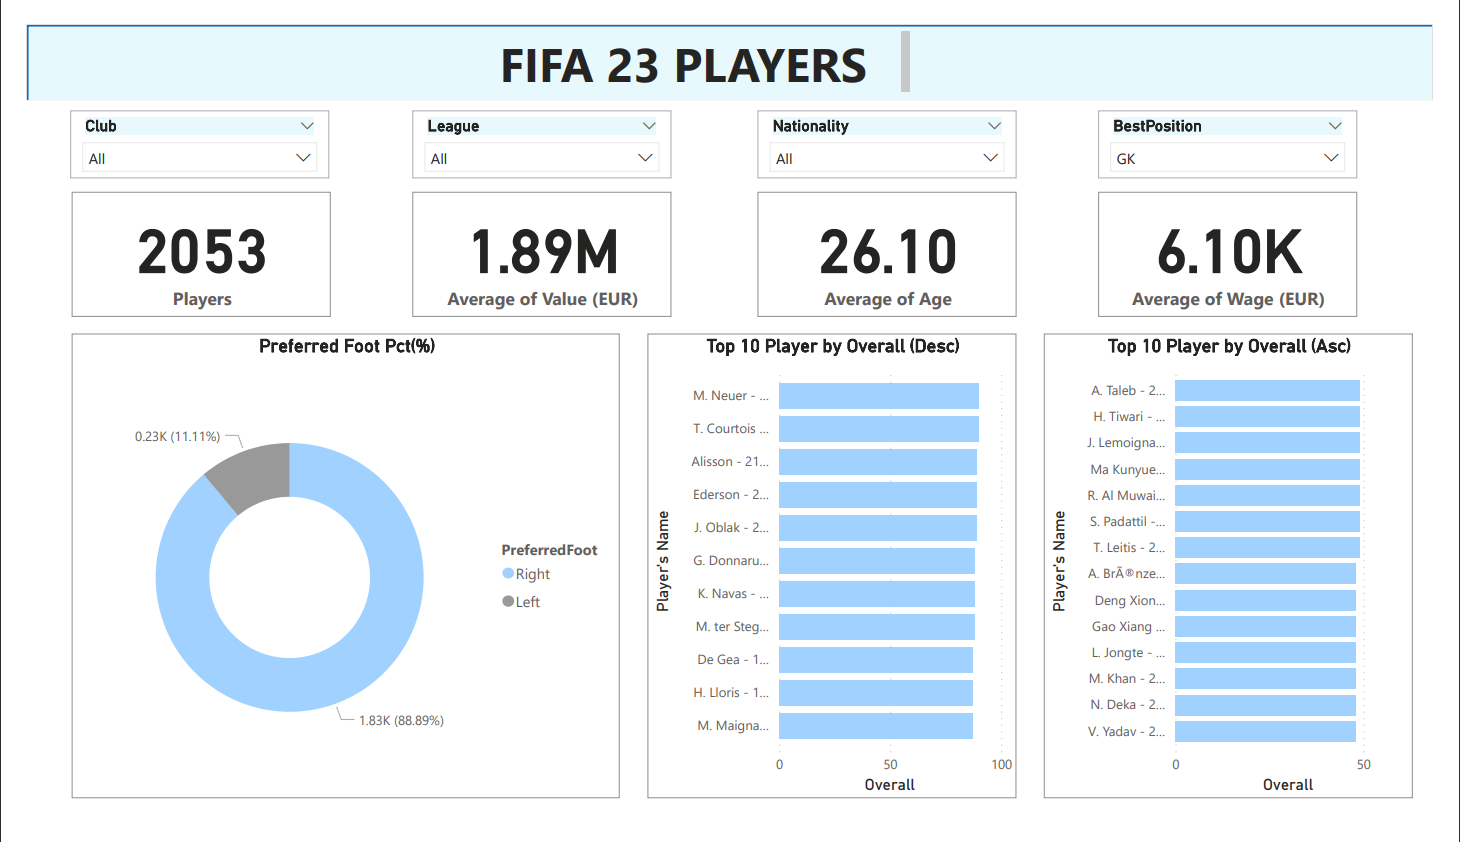

This screenshot's page, from the dashboard's own definition file:
{"tool":"powerbi","page":{"name":"FIFA 23 PLAYERS","canvas":[1280,720],"ordinal":0},"visuals":[{"type":"shape","box":[0,0,1279.9,68.8],"z":0},{"type":"textbox","box":[395,1.2,414,66.4],"z":1000},{"type":"slicer","fields":{"Values":["players_fifa23.Club"]},"box":[40.3,78.3,236,61.7],"z":2000},{"type":"slicer","fields":{"Values":["players_fifa23.League#"]},"box":[351.1,78.3,236,61.7],"z":3000},{"type":"slicer","fields":{"Values":["players_fifa23.Nationality"]},"box":[665.4,78.3,236,61.7],"z":4000},{"type":"slicer","fields":{"Values":["players_fifa23.BestPosition"]},"box":[975,78.3,236,61.7],"z":5000},{"type":"card","fields":{"Values":["players_fifa23.ID"]},"box":[41.4,152.9,235.7,114.3],"z":6000},{"type":"card","fields":{"Values":["players_fifa23.ValueEUR"]},"box":[351.4,152.9,235.7,114.3],"z":7000},{"type":"card","fields":{"Values":["players_fifa23.Age"]},"box":[665.7,152.9,235.7,114.3],"z":8000},{"type":"card","fields":{"Values":["players_fifa23.WageEUR"]},"box":[975.7,152.9,235.7,114.3],"z":9000},{"type":"donutChart","title":"Preferred Foot Pct(%)","fields":{"Category":["players_fifa23.PreferredFoot"],"Y":["players_fifa23.PreferredFoot"]},"box":[41.2,281.2,499.4,422.6],"z":10000},{"type":"barChart","title":"Top 10 Player by Overall (Desc)","fields":{"Category":["players_fifa23.Name with ID"],"Y":["players_fifa23.Overall"]},"box":[565.7,281.4,335.7,422.9],"z":11000},{"type":"barChart","title":"Top 10 Player by Overall (Asc)","fields":{"Category":["players_fifa23.Name with ID"],"Y":["players_fifa23.Overall"]},"box":[925.7,281.4,335.7,422.9],"z":12000}]}

Visuals, with their boxes in screenshot pixels (x1, y1, x2, y2), scaled from the page's 1280x720 canvas onto the 1460x842 screenshot:
shape: pyautogui.locateOnScreen(0, 0, 1459, 80)
textbox: pyautogui.locateOnScreen(451, 1, 923, 79)
slicer - players_fifa23.Club: pyautogui.locateOnScreen(46, 92, 315, 164)
slicer - players_fifa23.League#: pyautogui.locateOnScreen(400, 92, 670, 164)
slicer - players_fifa23.Nationality: pyautogui.locateOnScreen(759, 92, 1028, 164)
slicer - players_fifa23.BestPosition: pyautogui.locateOnScreen(1112, 92, 1381, 164)
card - players_fifa23.ID: pyautogui.locateOnScreen(47, 179, 316, 312)
card - players_fifa23.ValueEUR: pyautogui.locateOnScreen(401, 179, 670, 312)
card - players_fifa23.Age: pyautogui.locateOnScreen(759, 179, 1028, 312)
card - players_fifa23.WageEUR: pyautogui.locateOnScreen(1113, 179, 1382, 312)
"Preferred Foot Pct(%)" donutChart: pyautogui.locateOnScreen(47, 329, 617, 823)
"Top 10 Player by Overall (Desc)" barChart: pyautogui.locateOnScreen(645, 329, 1028, 824)
"Top 10 Player by Overall (Asc)" barChart: pyautogui.locateOnScreen(1056, 329, 1439, 824)
